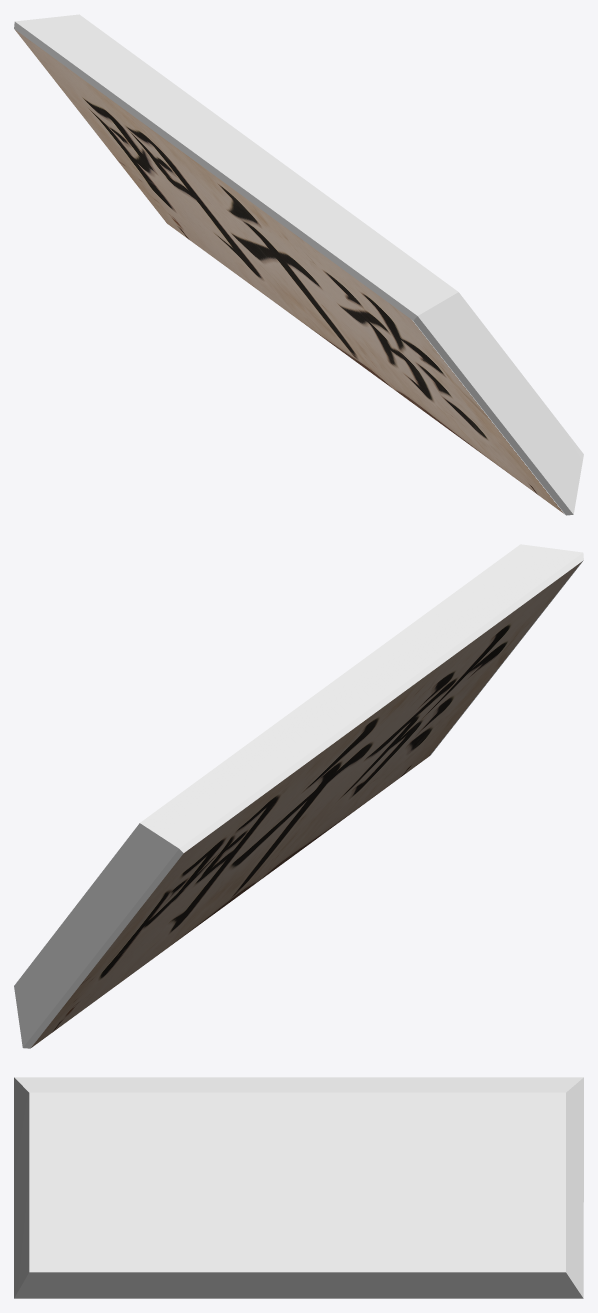
File: SM_R_Sign_EH.fbx
3 views of the same model, one above another, from view 1: azimuth 30°, elevation 25°; view 2: azimuth 150°, elevation 25°; view 3: azimuth 270°, elevation 25° (orthographic). The views are drawn at different scales.
Visible parts, largest first — view 1: SM_R_Sign_EH; view 2: SM_R_Sign_EH; view 3: SM_R_Sign_EH.
Boxes of the visible parts, left/top/right/bottom form: SM_R_Sign_EH: left=14, top=14, right=583, bottom=515; SM_R_Sign_EH: left=14, top=544, right=583, bottom=1048; SM_R_Sign_EH: left=14, top=1077, right=583, bottom=1298.
Size of the model in its own units: 25.24 by 97.85 by 32.3.
1 material, 1 textured.
